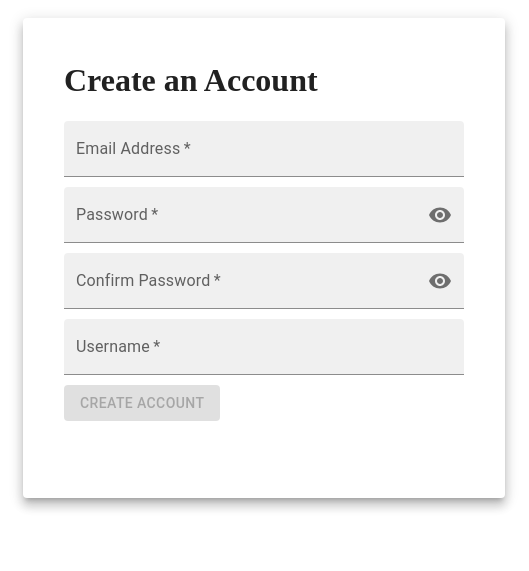
In account creation, › when password input is touched and not valid length, there should be error text
Type "test12" into the password field labelled "Password *".
click(242, 215); type("test12")  # box [64,187,420,243]
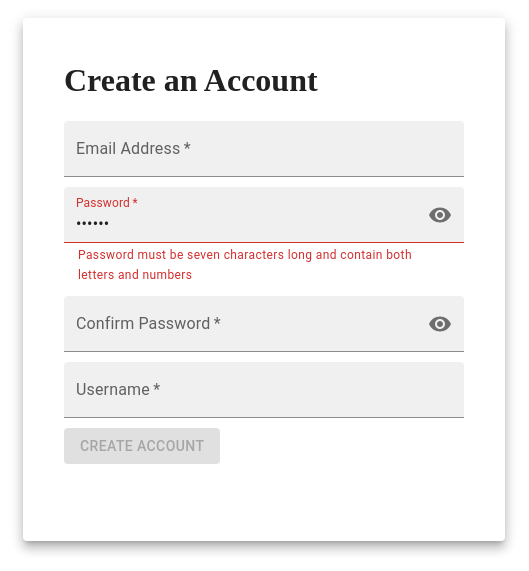
Expected: the text "Password must be seven characters long and contain both letters and numbers" is shown, [78,246,450,286]
